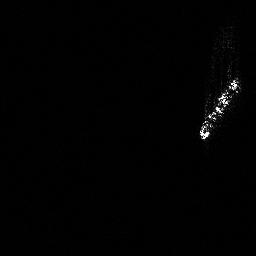ship: (198, 22, 243, 141)
